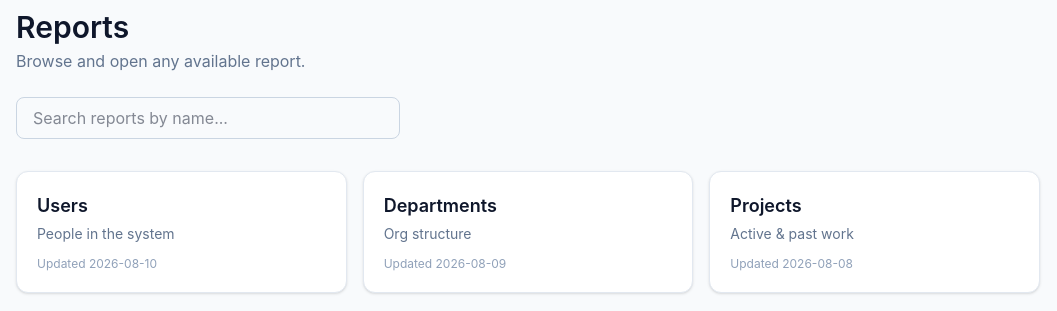
Scenario: LandingPage › shows an empty state when no report matches the search
expect the heading "Users" is shown: met, box [37,195,88,216]
Type "zzz" into the field labelled "Search reports by name..." at (208, 118), box [16,97,400,139]
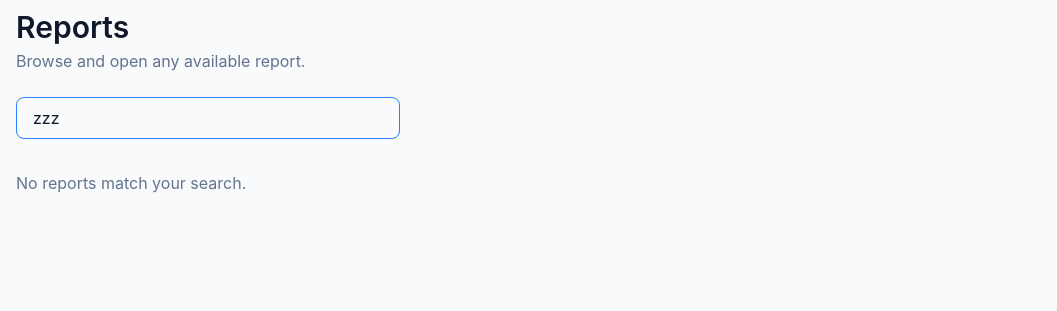
expect the text "No reports match your search." is shown: met, box [16,173,246,193]
expect the link "Users" is gone: met
